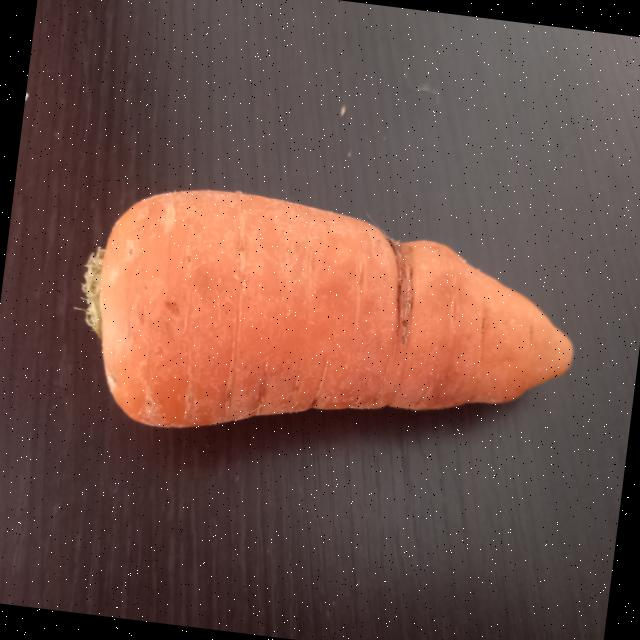carrot: (85, 190, 572, 427)
